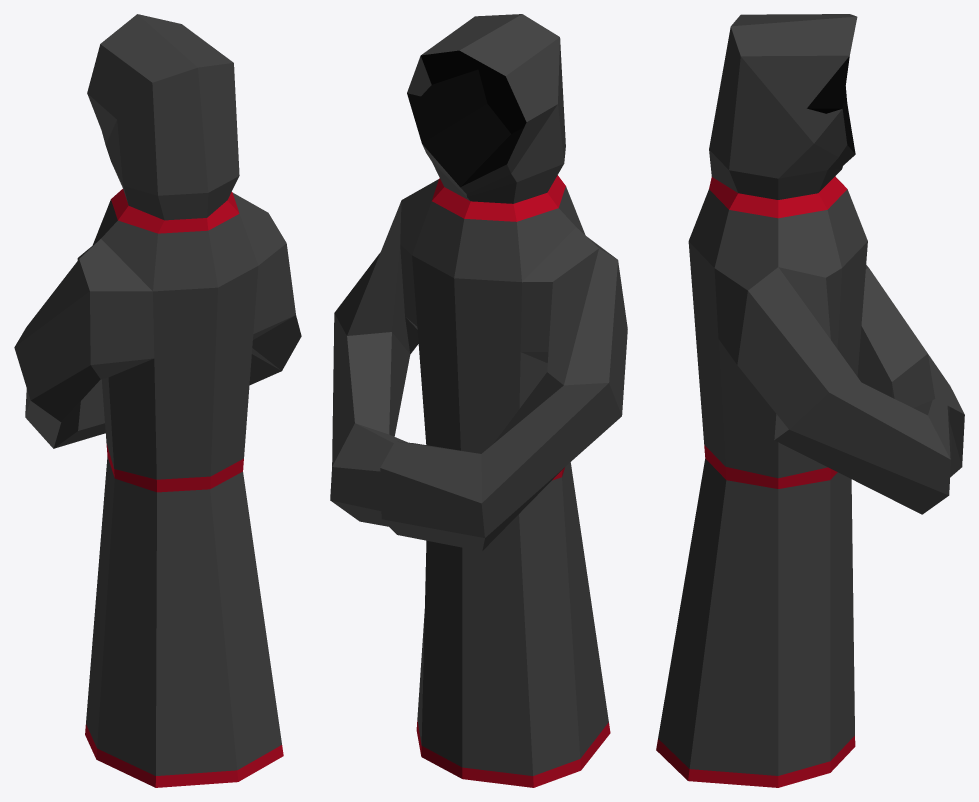
Rendered from cultist.FBX.
3 views of the same model, side by side, from view 1: azimuth 30°, elevation 25°; view 2: azimuth 150°, elevation 25°; view 3: azimuth 270°, elevation 25° (orthographic). The views are drawn at different scales.
Parts seen in each view (by area): view 1: cultist; view 2: cultist; view 3: cultist.
Boxes of the visible parts, bbox=[...] form: cultist: bbox=[14, 14, 301, 787]; cultist: bbox=[330, 14, 627, 787]; cultist: bbox=[656, 14, 964, 787].
Size of the model in its own units: 119 by 298 by 114.
